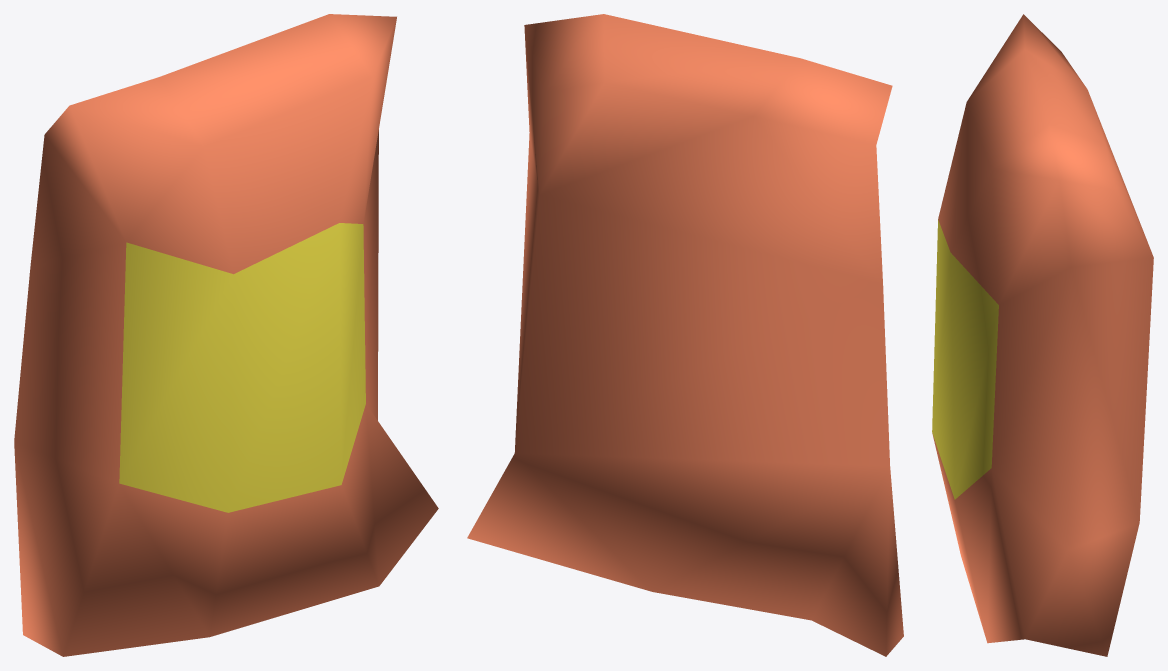
Rendered from shop_078.glb.
The picture shows the model from 3 angles, left to right: view 1: azimuth 30°, elevation 25°; view 2: azimuth 150°, elevation 25°; view 3: azimuth 270°, elevation 25°; orthographic projection. The views are drawn at different scales.
Parts seen in each view (by area): view 1: shop_078; view 2: shop_078; view 3: shop_078.
Boxes of the visible parts, x1,y1,x2,y2 form: shop_078: (14, 14, 438, 656); shop_078: (467, 14, 903, 656); shop_078: (932, 14, 1153, 656).
Size of the model in its own units: 0.2185 by 0.2901 by 0.1119.
1 material, 1 textured.
